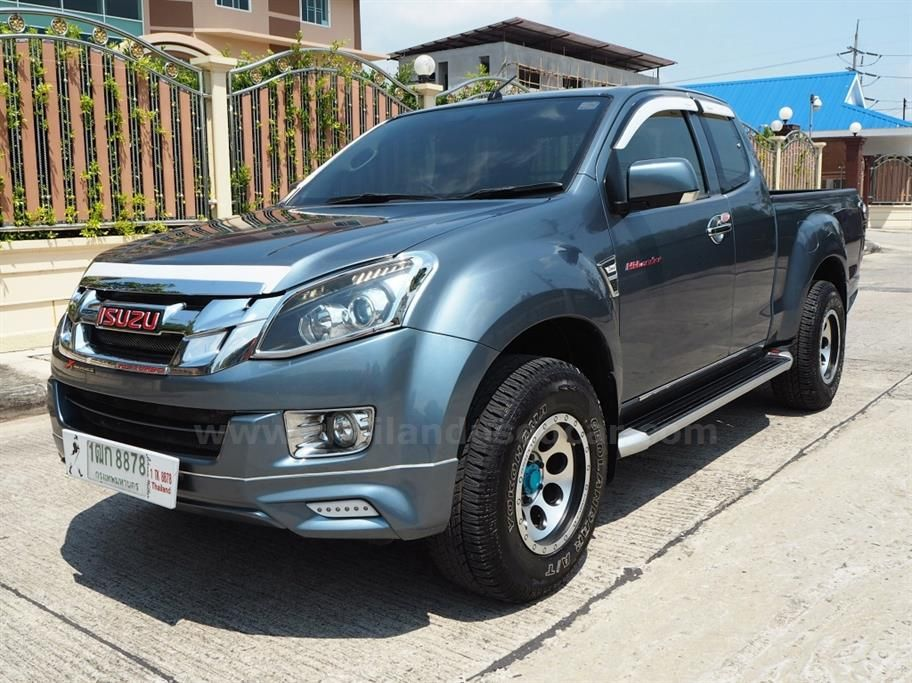pickup: (47, 81, 871, 604)
